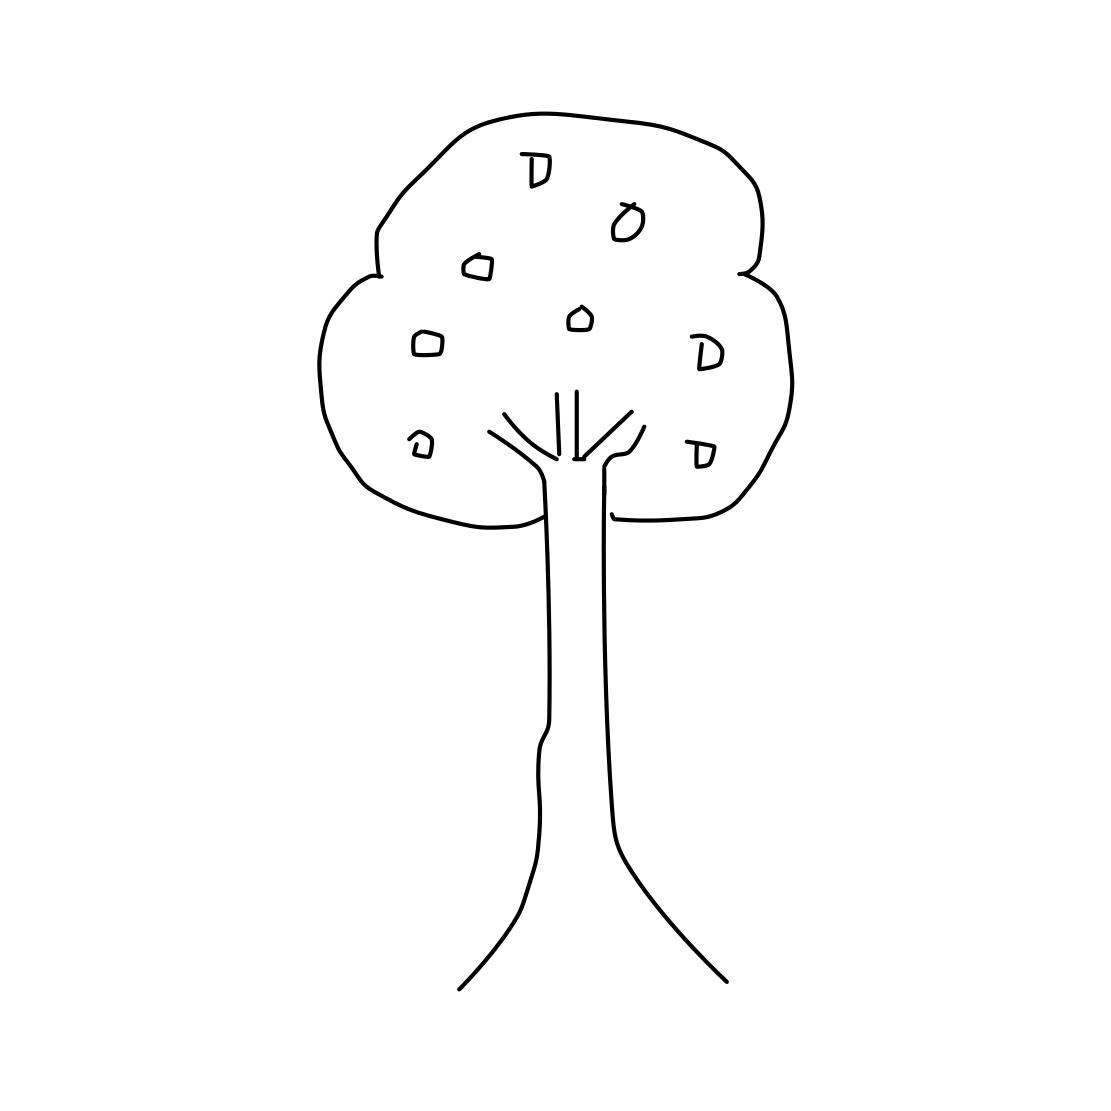Tree: (275, 76, 884, 1016)
